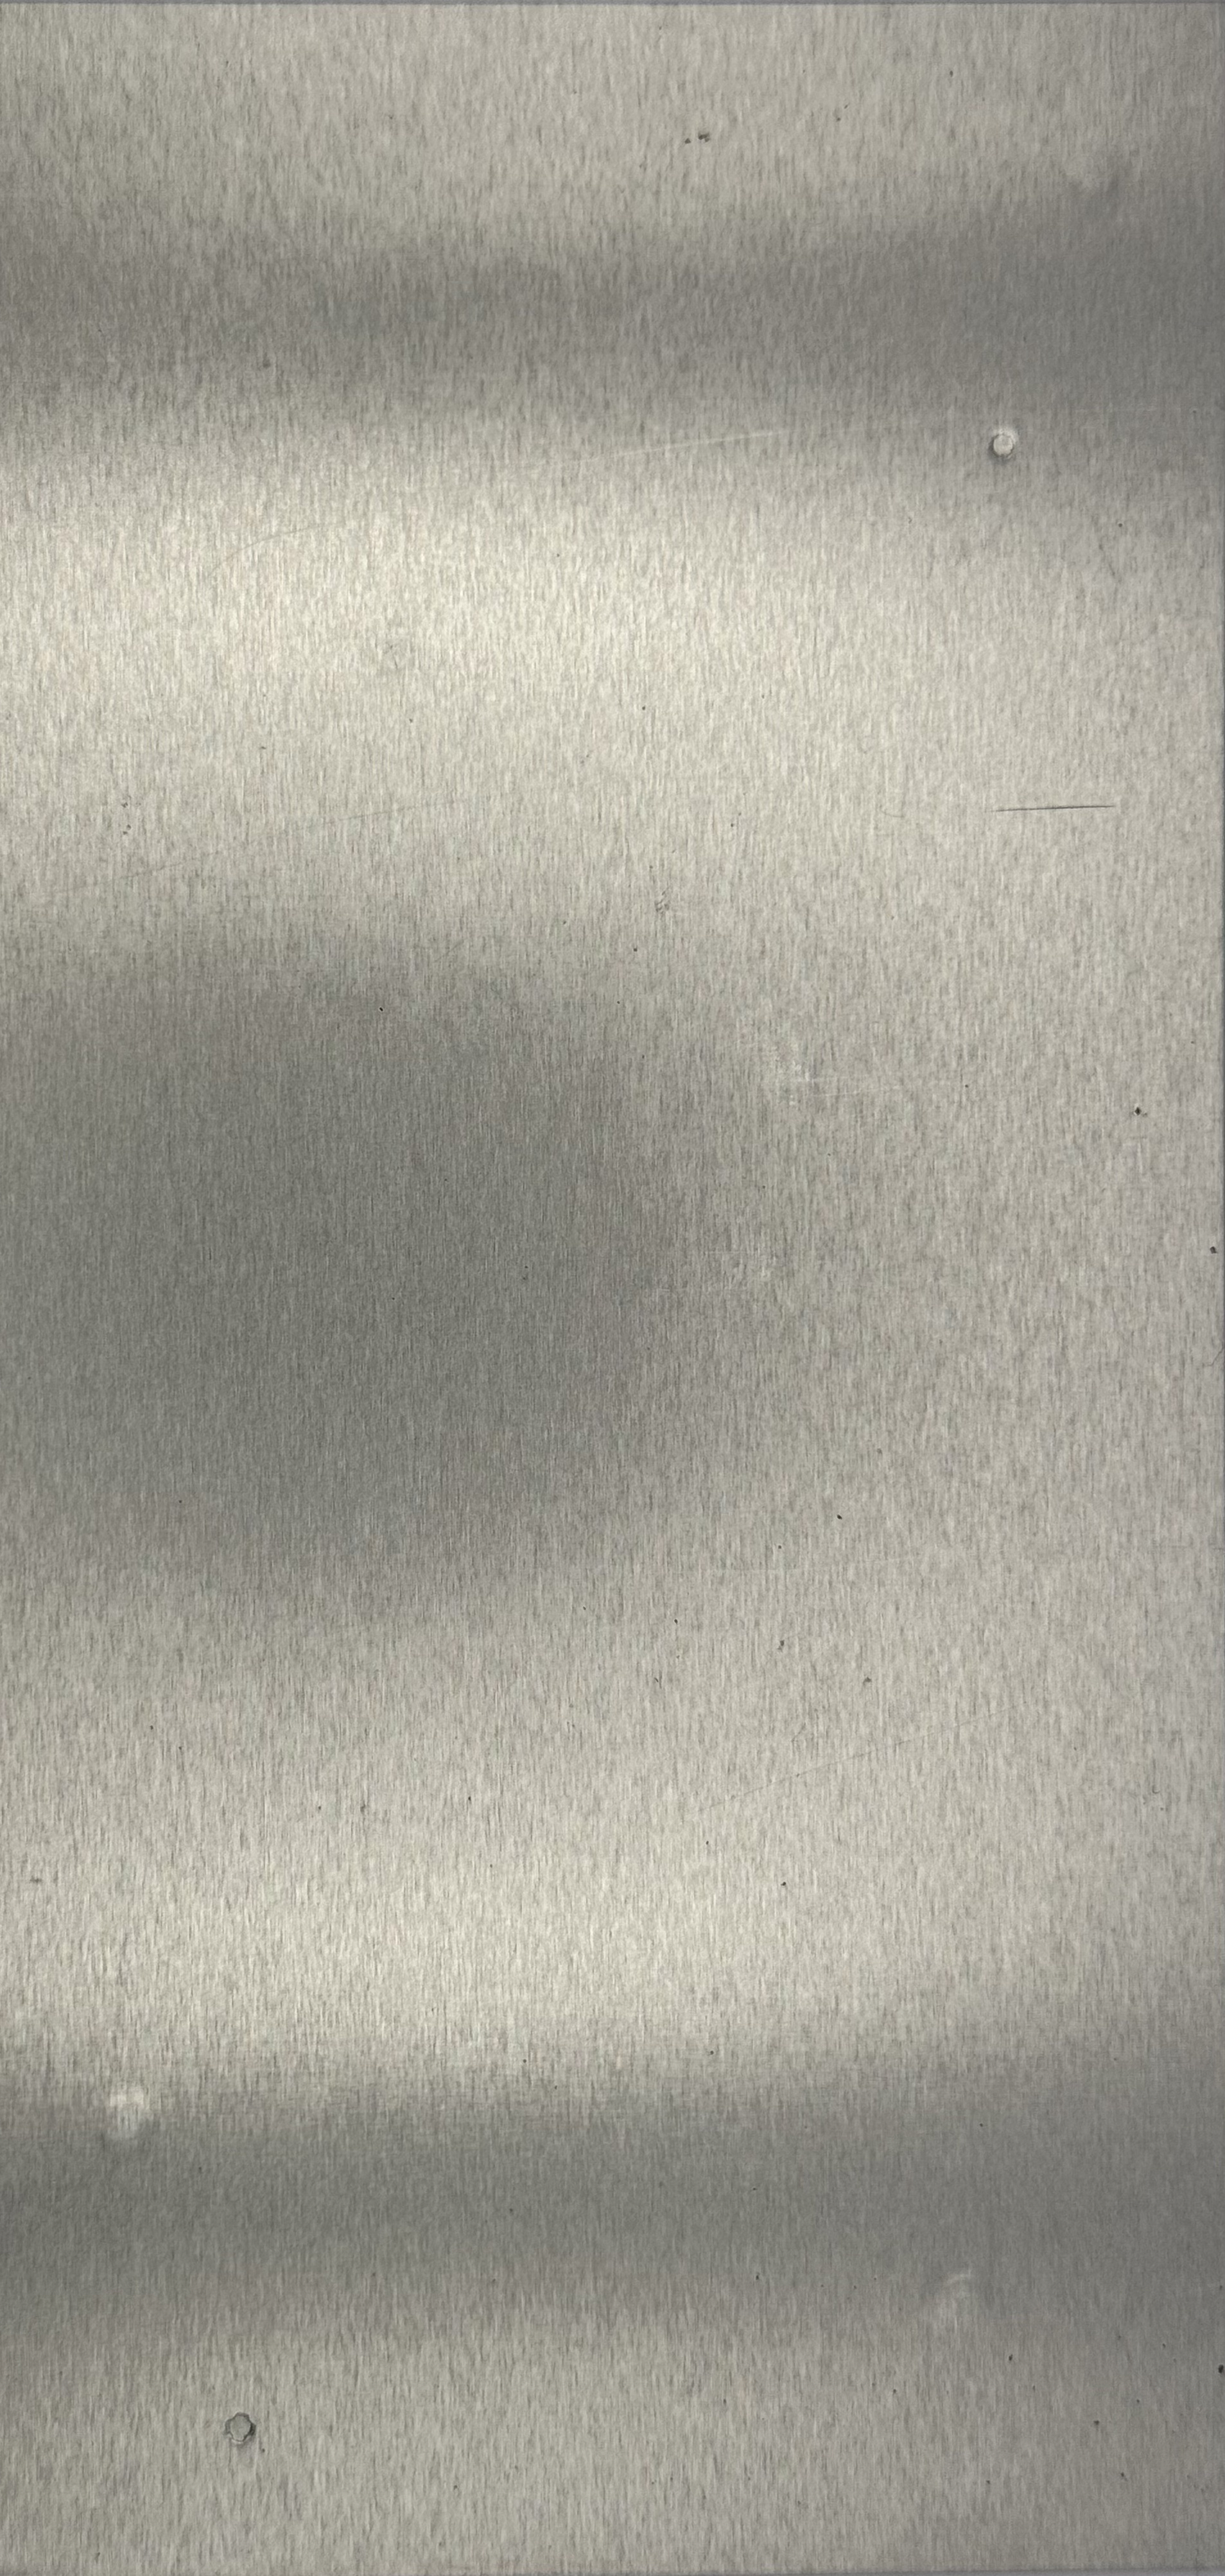Delle: (900, 2259, 1025, 2359), (1043, 123, 1158, 230), (85, 2077, 182, 2175), (209, 2410, 281, 2458), (974, 421, 1036, 471)
